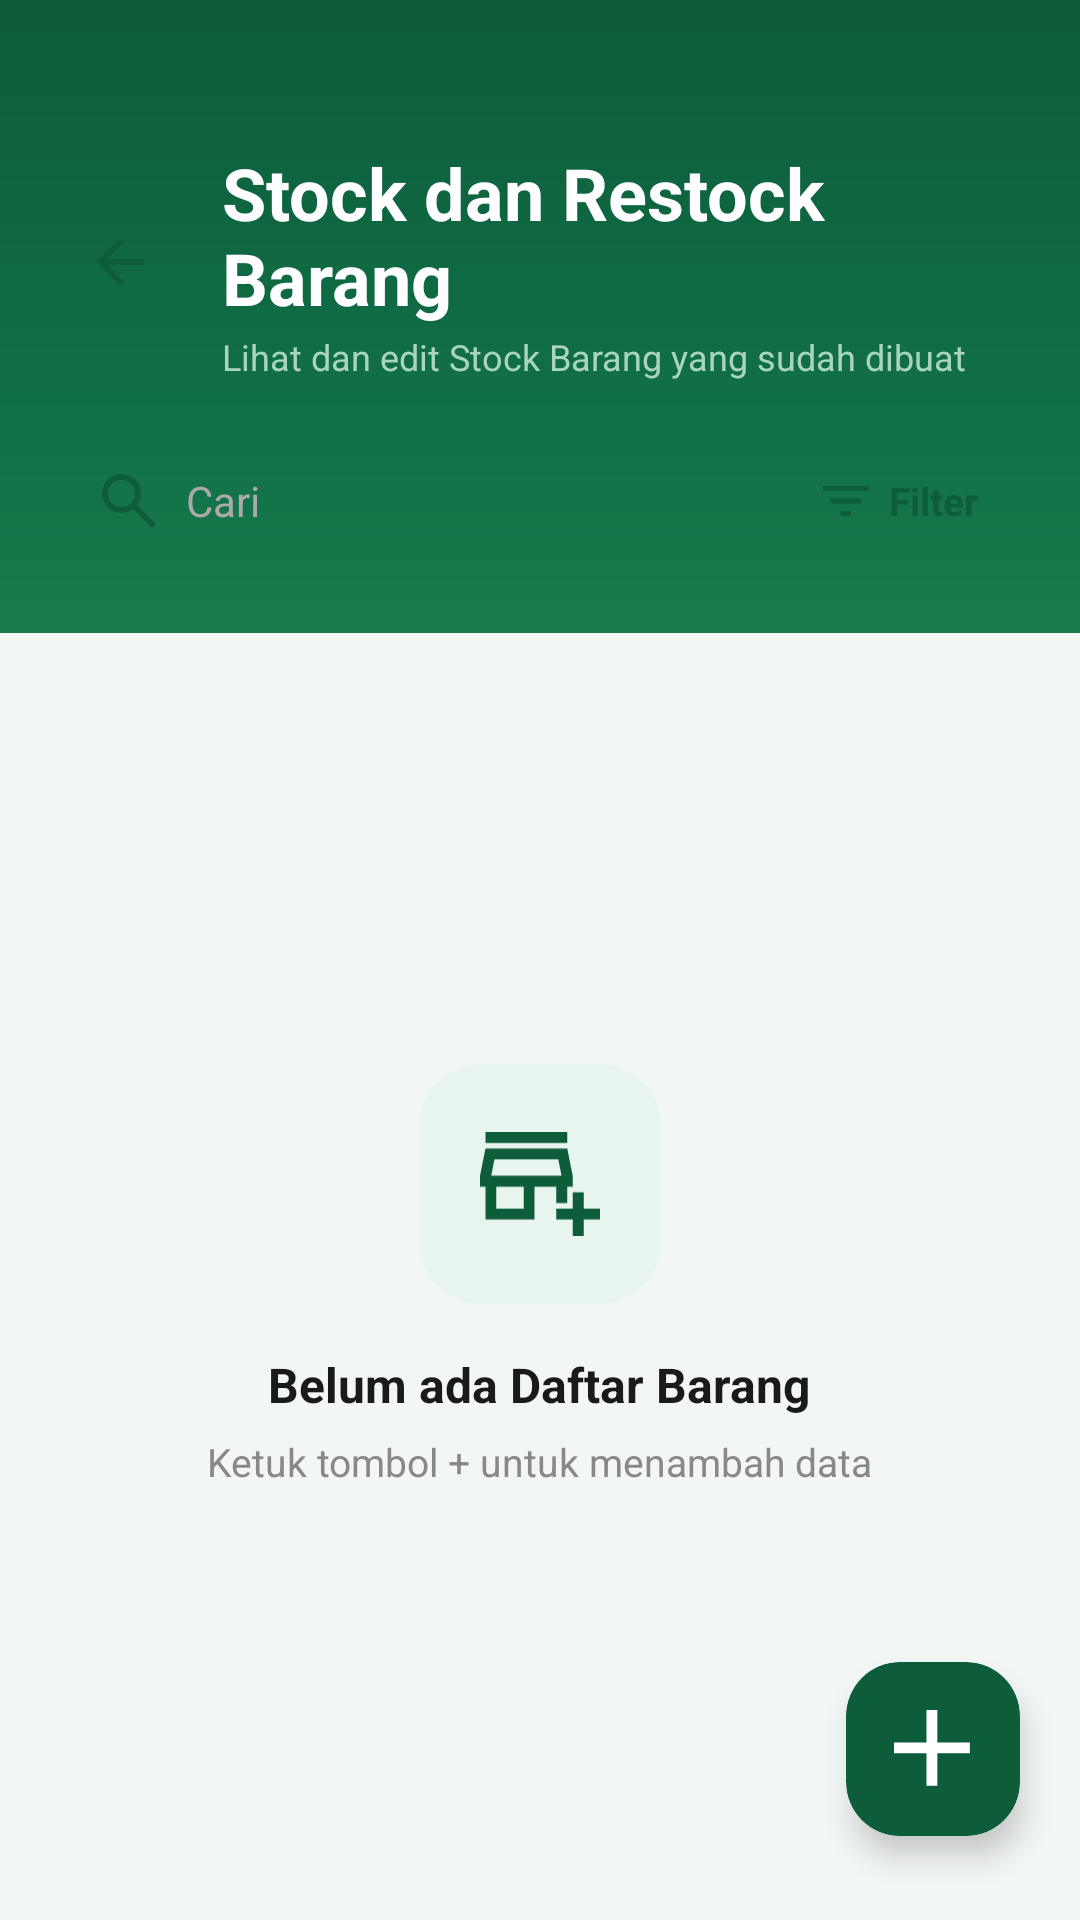

Where to tap for icons on this 1080*1920 app screen, as (x,y):
Tambah: (932,1748)
